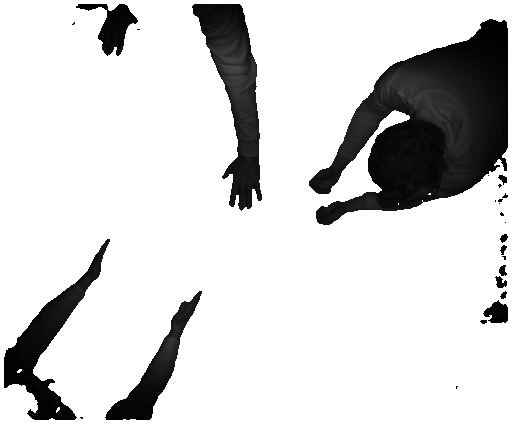fist: (305, 164, 339, 198), (312, 201, 345, 231)
hand: (216, 159, 263, 215), (96, 19, 143, 55)
spine: (170, 288, 207, 337), (85, 232, 111, 286)
